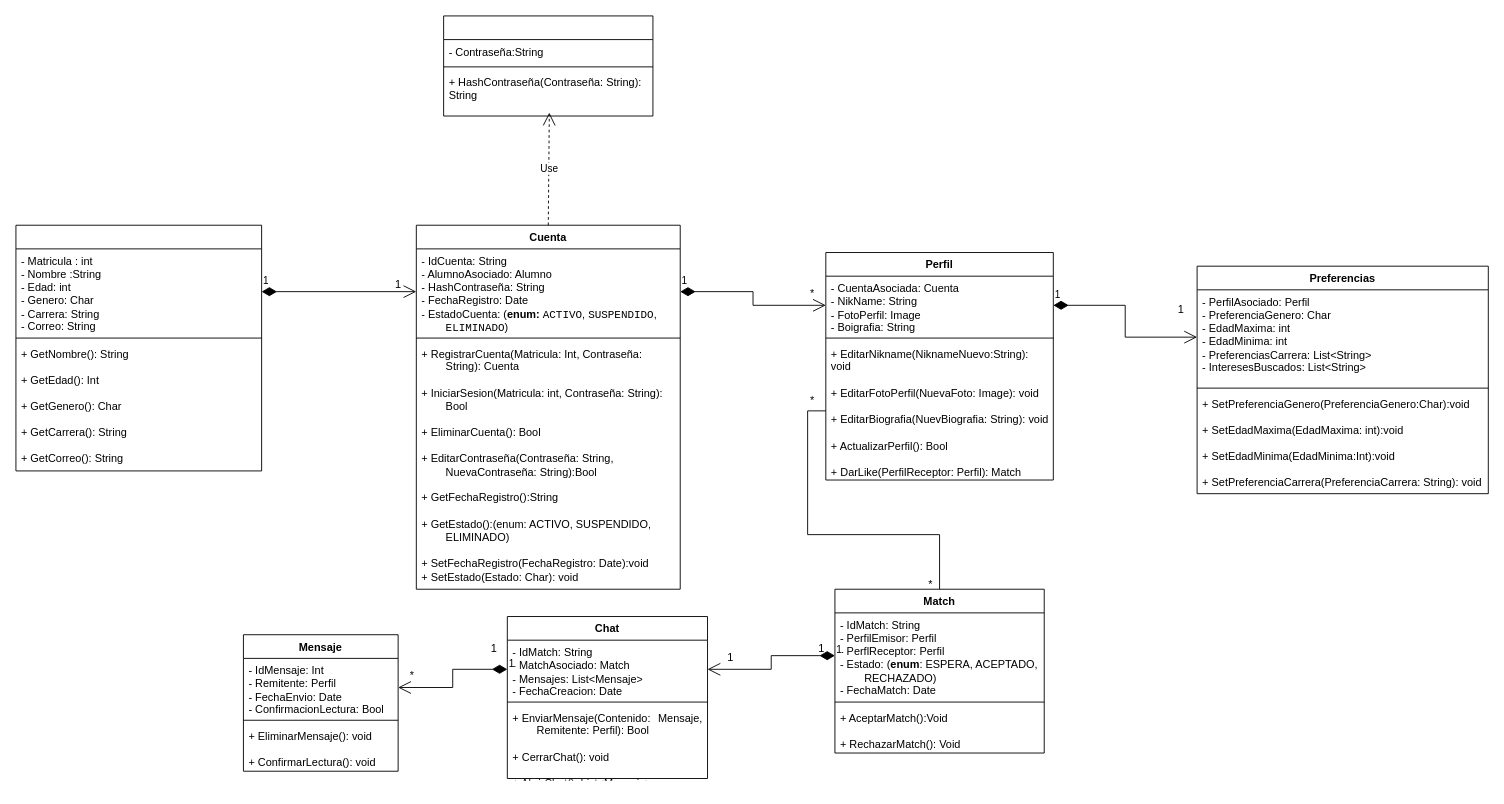
Image size: 1504x804. Some labels were removed from this diagram. Each missing label, with the box of its shape:
Alumno: (15, 224, 262, 471)
HashUtil: (443, 15, 653, 116)
